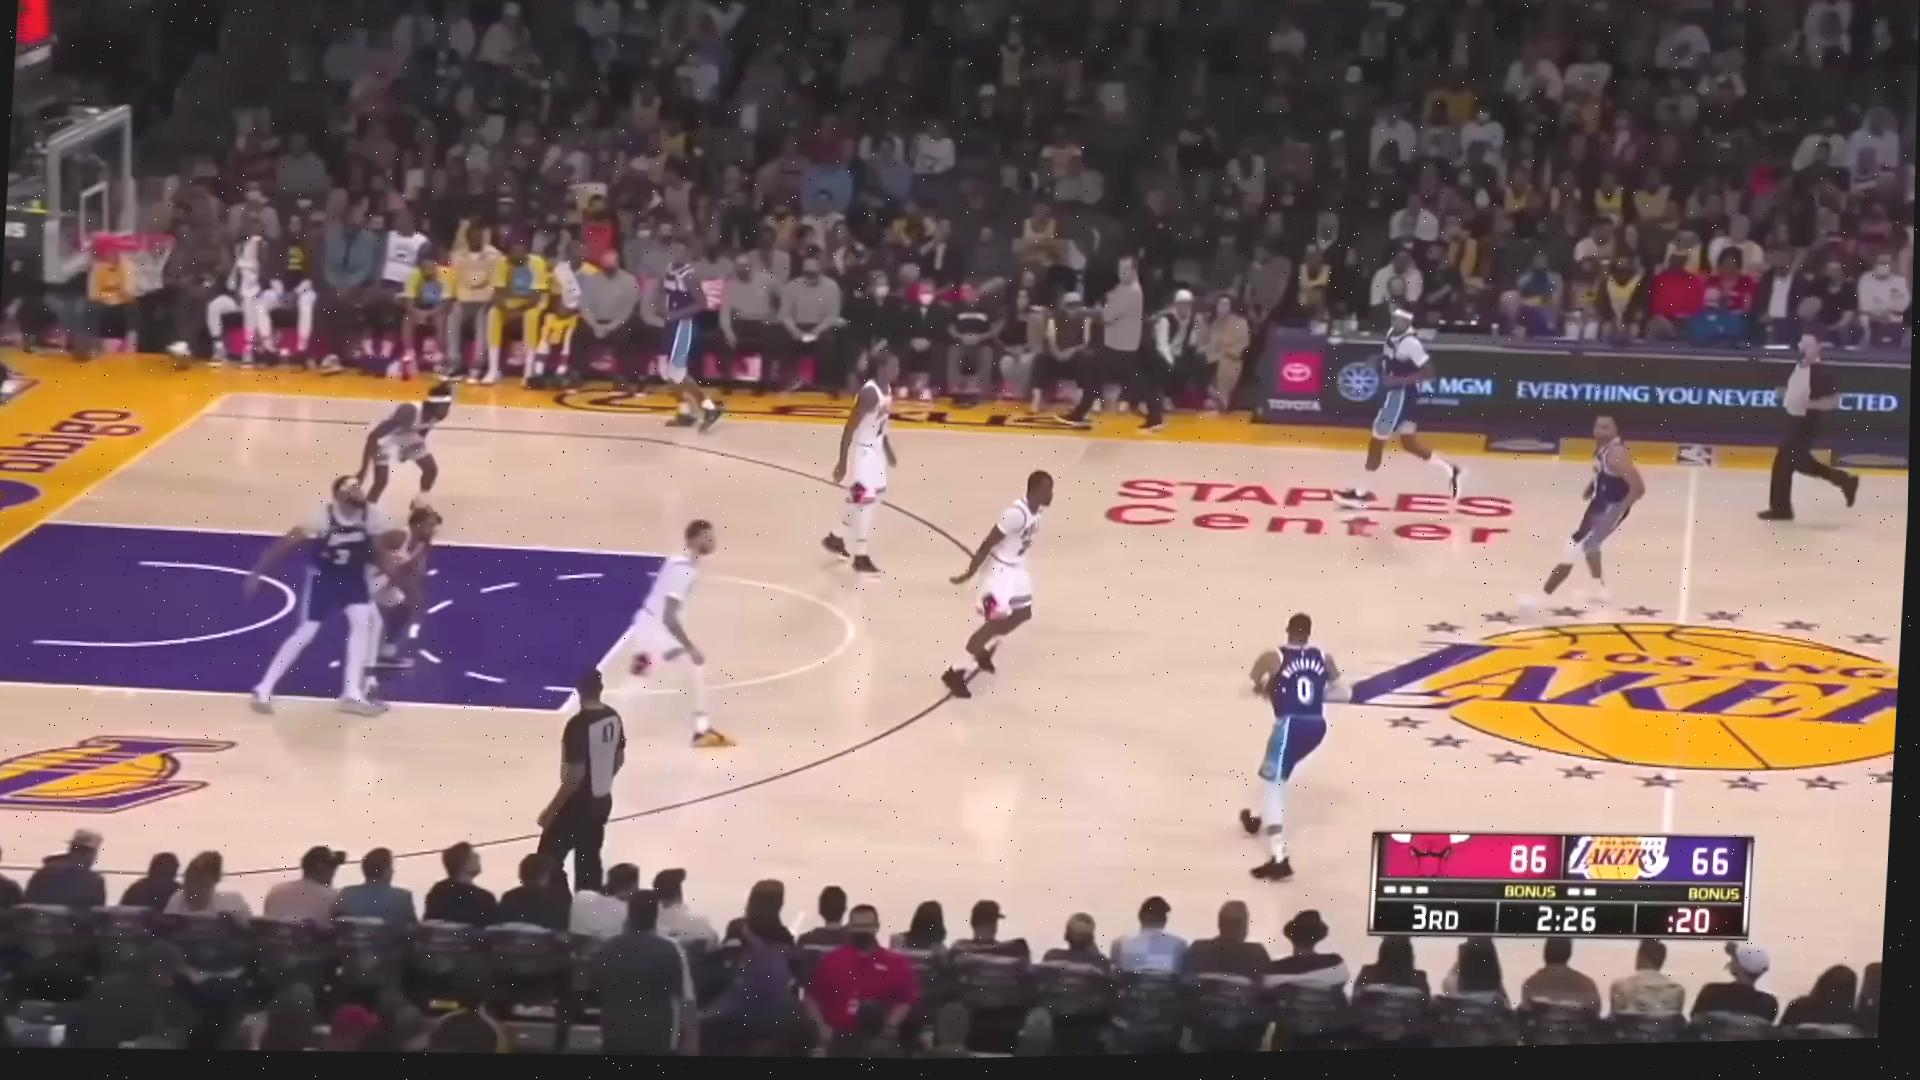foul: (248, 462, 436, 713)
